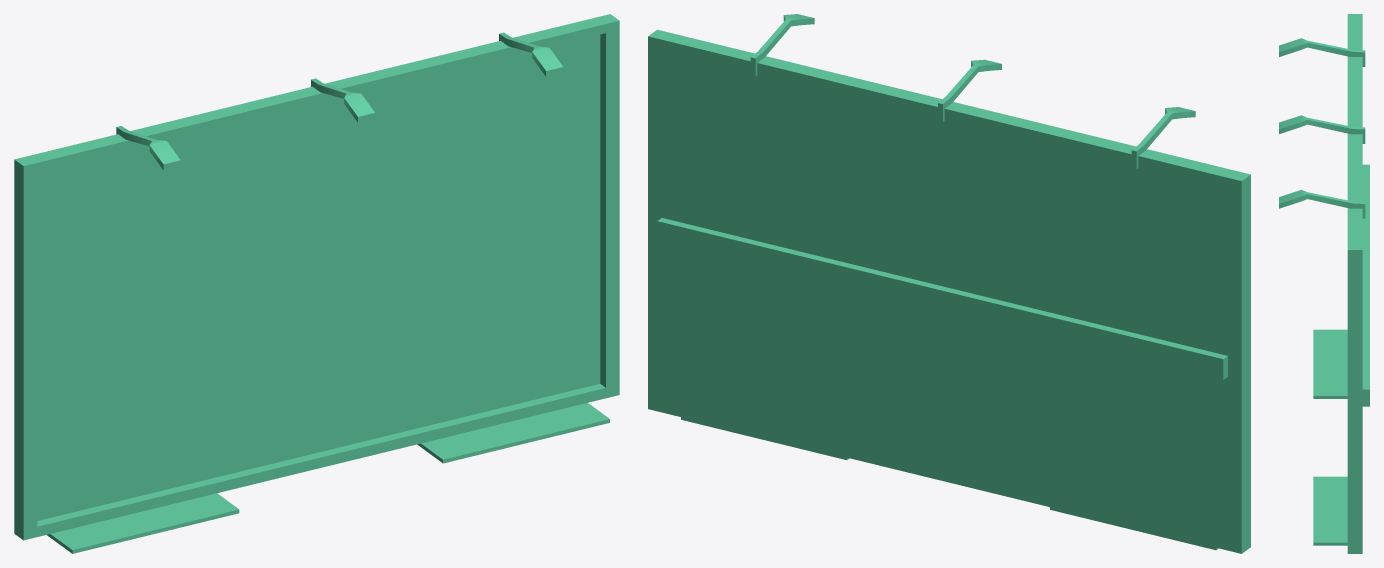
Rendered from Billboard.fbx.
3 views of the same model, side by side, from view 1: azimuth 30°, elevation 25°; view 2: azimuth 150°, elevation 25°; view 3: azimuth 270°, elevation 25° (orthographic). The views are drawn at different scales.
Parts seen in each view (by area): view 1: Billboard; view 2: Billboard; view 3: Billboard.
Part boxes in pixels (bbox=[...]): Billboard: bbox=[14, 14, 619, 553]; Billboard: bbox=[648, 14, 1250, 553]; Billboard: bbox=[1279, 14, 1369, 553].
Size of the model in its own units: 1125 by 716 by 183.
